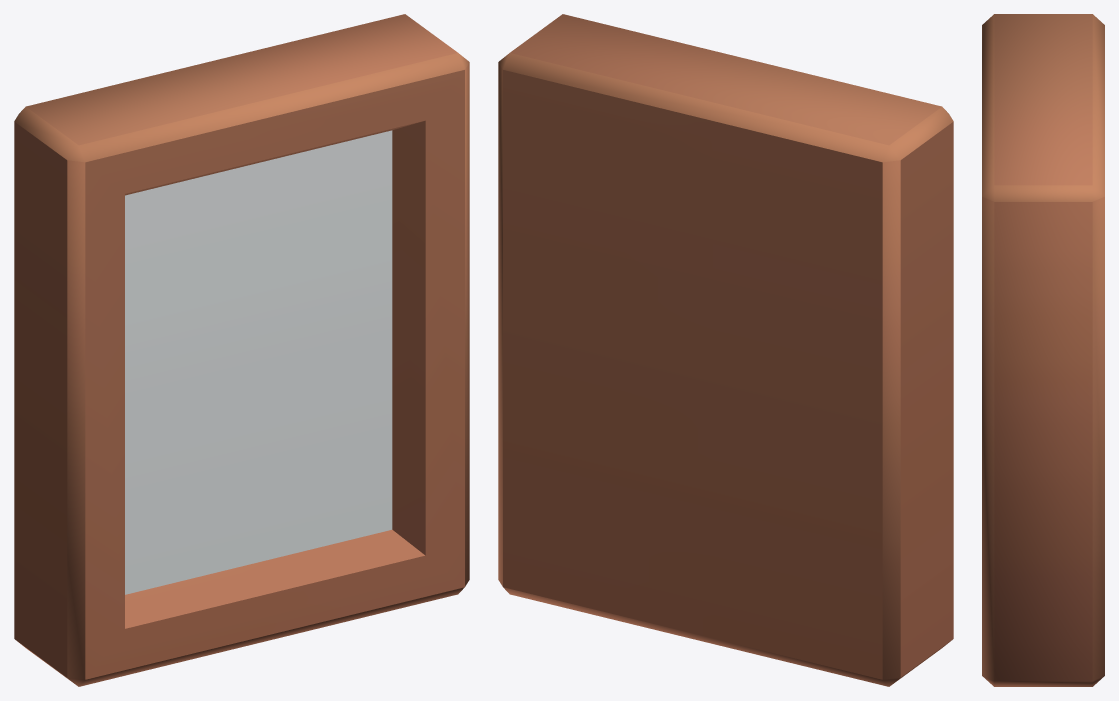
File: pictureframe_medium.glb
The picture shows the model from 3 angles, left to right: view 1: azimuth 30°, elevation 25°; view 2: azimuth 150°, elevation 25°; view 3: azimuth 270°, elevation 25°; orthographic projection. The views are drawn at different scales.
Visible parts, largest first — view 1: pictureframe_medium; view 2: pictureframe_medium; view 3: pictureframe_medium.
Boxes of the visible parts, x1=… form: pictureframe_medium: x1=14, y1=14, x2=469, y2=686; pictureframe_medium: x1=498, y1=14, x2=953, y2=686; pictureframe_medium: x1=982, y1=14, x2=1104, y2=686.
Size of the model in its own units: 0.7 by 0.9 by 0.2.
Materials: 1 (1 with a texture image).
